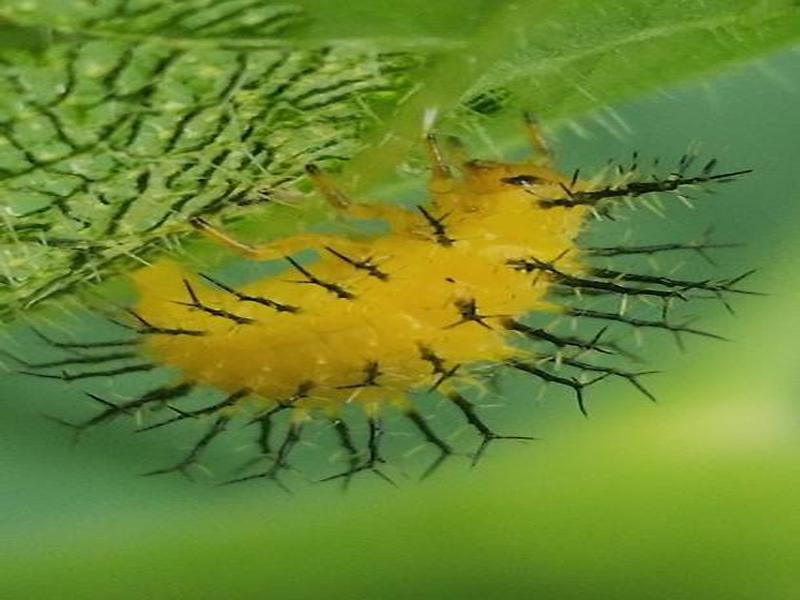Spiny_beetle: (87, 148, 692, 458)
